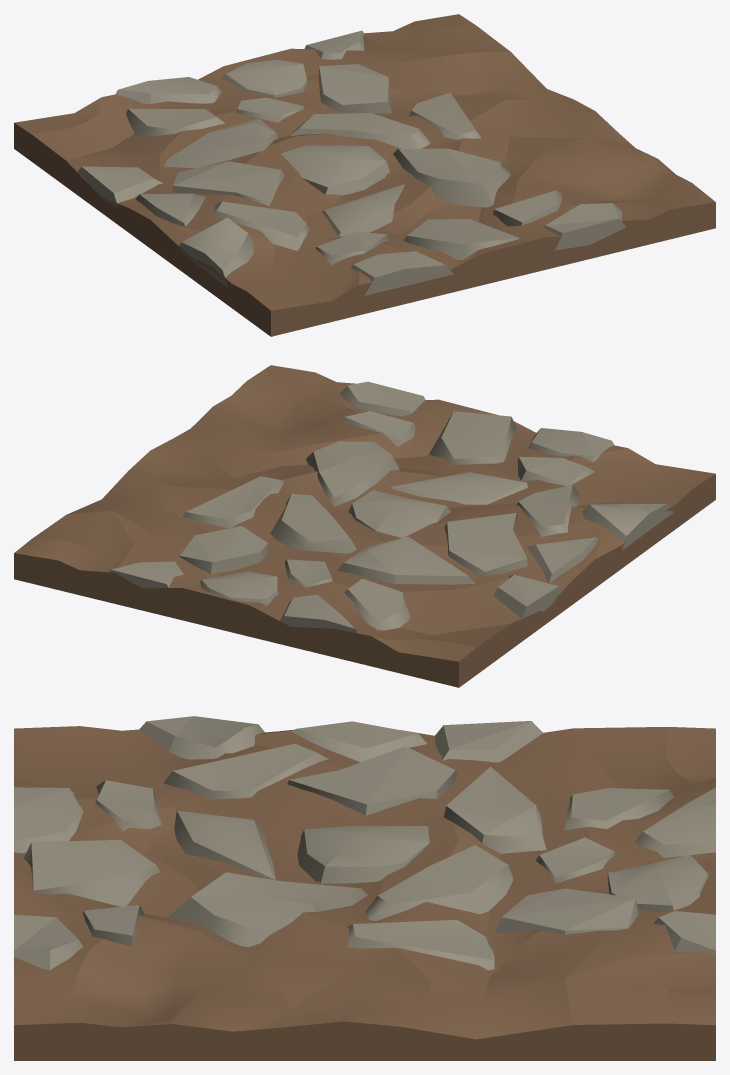
The model's file is Ground_Stone_Path_Crossroads_L.glb.
3 views of the same model, one above another, from view 1: azimuth 30°, elevation 25°; view 2: azimuth 150°, elevation 25°; view 3: azimuth 270°, elevation 25° (orthographic). The views are drawn at different scales.
Visible parts, largest first — view 1: Ground_Stone_Path_Crossroads_L; view 2: Ground_Stone_Path_Crossroads_L; view 3: Ground_Stone_Path_Crossroads_L.
Part boxes in pixels (bbox=[...]): Ground_Stone_Path_Crossroads_L: bbox=[14, 14, 715, 336]; Ground_Stone_Path_Crossroads_L: bbox=[14, 365, 715, 687]; Ground_Stone_Path_Crossroads_L: bbox=[14, 716, 715, 1060].
Size of the model in its own units: 1.47 by 0.1486 by 1.47.
